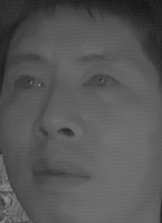eye: (82, 68, 120, 94), (12, 70, 47, 93)
mouth: (28, 155, 94, 196)
